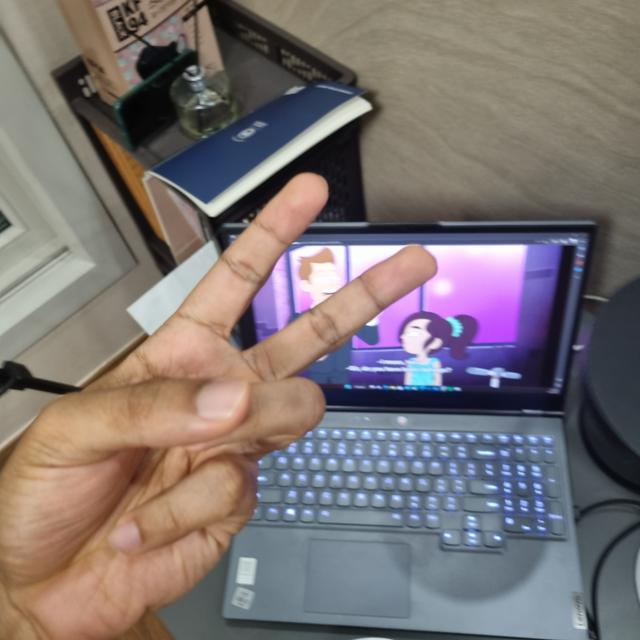Scissors: (3, 180, 431, 638)
